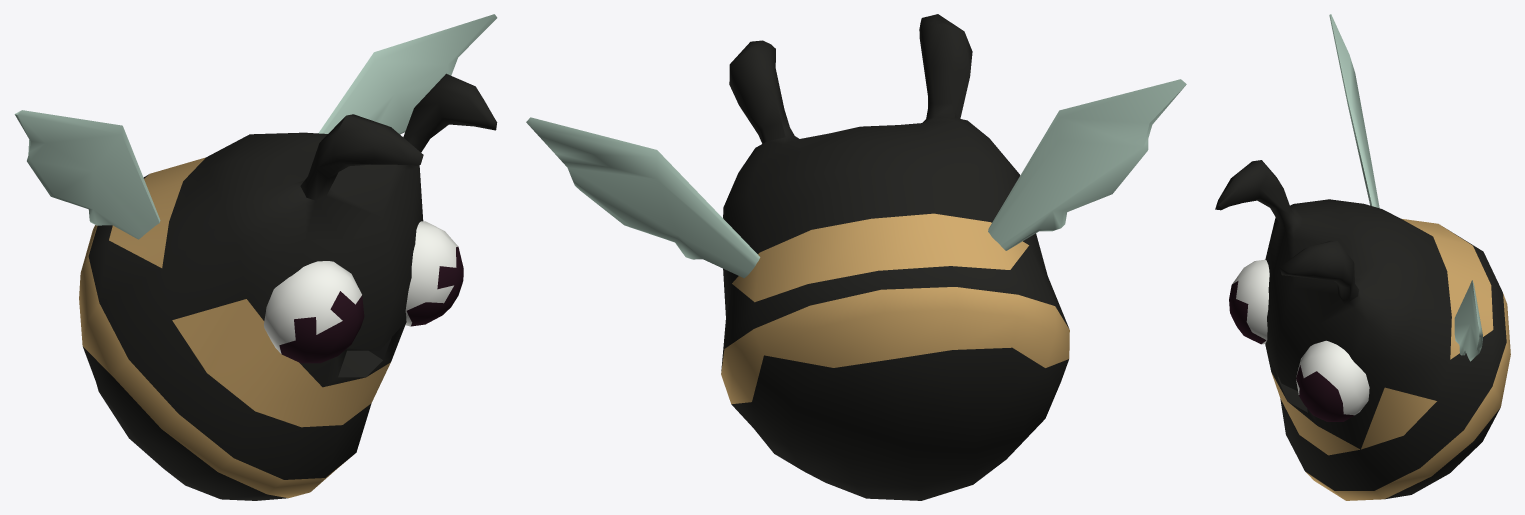
The model's file is bee.glb.
3 renders of one model, left to right at view 1: azimuth 30°, elevation 25°; view 2: azimuth 150°, elevation 25°; view 3: azimuth 270°, elevation 25°, orthographic. The views are drawn at different scales.
Visible parts, largest first — view 1: Bee; view 2: Bee; view 3: Bee.
Part boxes in pixels (x1,y1,x2,y2): Bee: (14, 14, 497, 500); Bee: (526, 14, 1186, 500); Bee: (1215, 14, 1510, 500).
Size of the model in its own units: 0.2402 by 0.1845 by 0.1328.
2 materials, 2 textured.
